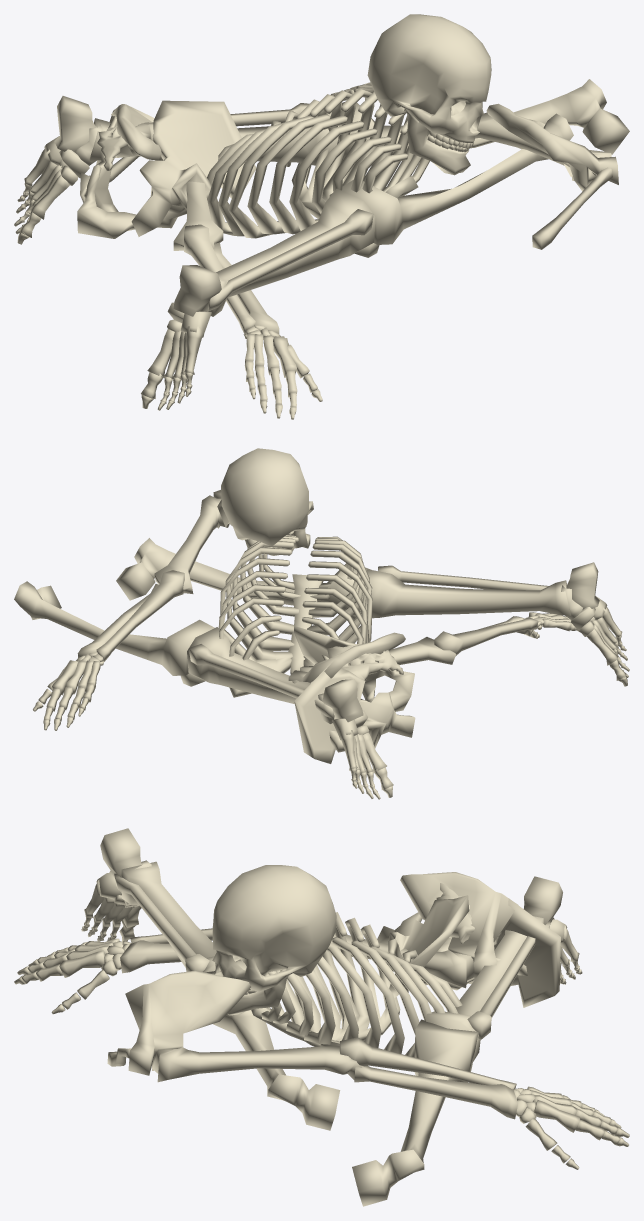
Rendered from Bones.glb.
3 views of the same model, one above another, from view 1: azimuth 30°, elevation 25°; view 2: azimuth 150°, elevation 25°; view 3: azimuth 270°, elevation 25° (orthographic). The views are drawn at different scales.
Visible parts, largest first — view 1: BONES_LEG.R_rest, BONES_RIBCAGE_rest, BONES_HEAD_rest, BONES_PELVIS_rest, BONES_LEG.L_rest, BONES_ARM.R_rest, BONES_ARM.L_rest; view 2: BONES_LEG.R_rest, BONES_RIBCAGE_rest, BONES_LEG.L_rest, BONES_PELVIS_rest, BONES_ARM.L_rest, BONES_HEAD_rest, BONES_ARM.R_rest; view 3: BONES_ARM.L_rest, BONES_RIBCAGE_rest, BONES_HEAD_rest, BONES_LEG.L_rest, BONES_LEG.R_rest, BONES_ARM.R_rest, BONES_PELVIS_rest.
Part boxes in pixels (<box>): BONES_LEG.R_rest: <box>141,113,573,410</box>; BONES_RIBCAGE_rest: <box>207,88,430,238</box>; BONES_HEAD_rest: <box>367,14,491,175</box>; BONES_PELVIS_rest: <box>77,100,256,238</box>; BONES_LEG.L_rest: <box>14,79,629,244</box>; BONES_ARM.R_rest: <box>89,104,322,419</box>; BONES_ARM.L_rest: <box>330,82,618,249</box>; BONES_LEG.R_rest: <box>116,538,629,686</box>; BONES_RIBCAGE_rest: <box>218,534,372,697</box>; BONES_LEG.L_rest: <box>14,581,393,799</box>; BONES_PELVIS_rest: <box>294,626,415,763</box>; BONES_ARM.L_rest: <box>33,490,310,730</box>; BONES_HEAD_rest: <box>221,448,313,555</box>; BONES_ARM.R_rest: <box>288,612,580,752</box>; BONES_ARM.L_rest: <box>107,970,629,1169</box>; BONES_RIBCAGE_rest: <box>251,912,462,1057</box>; BONES_HEAD_rest: <box>212,865,336,1015</box>; BONES_LEG.L_rest: <box>352,876,582,1206</box>; BONES_LEG.R_rest: <box>81,828,340,1130</box>; BONES_ARM.R_rest: <box>14,872,527,1014</box>; BONES_PELVIS_rest: <box>377,883,560,1007</box>.
Size of the model in its own units: 0.6308 by 0.25 by 0.5514.
